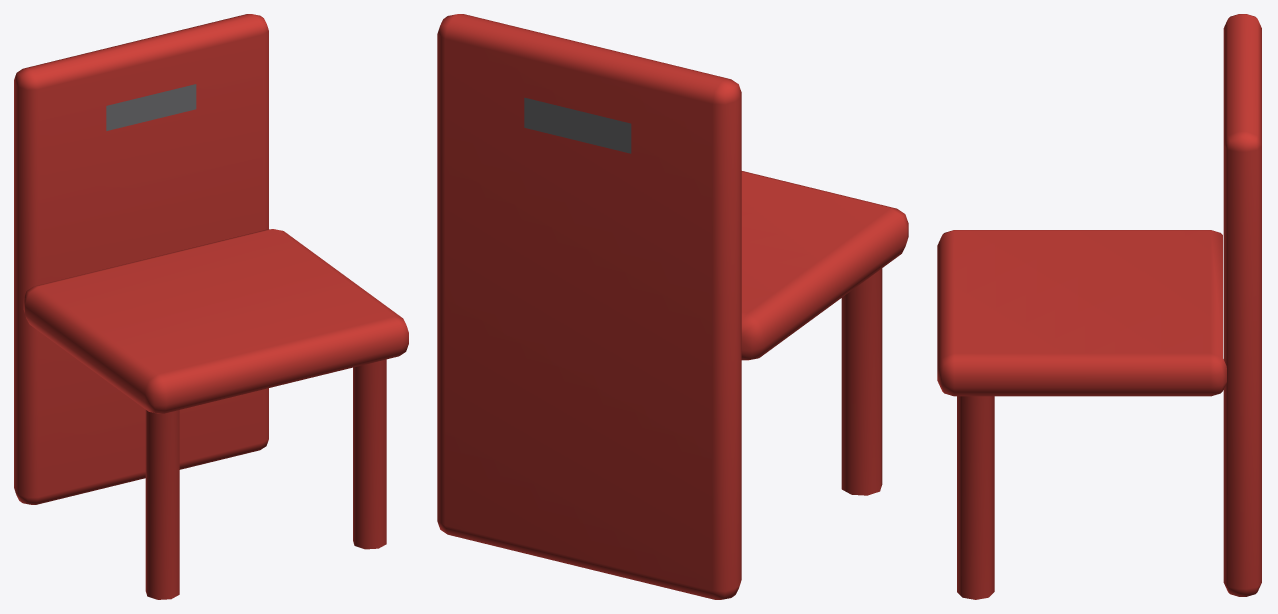
File: child_chair.glb
3 views of the same model, side by side, from view 1: azimuth 30°, elevation 25°; view 2: azimuth 150°, elevation 25°; view 3: azimuth 270°, elevation 25° (orthographic). The views are drawn at different scales.
Parts seen in each view (by area): view 1: playplace_child_chair; view 2: playplace_child_chair; view 3: playplace_child_chair.
Part boxes in pixels (x1,y1,x2,y2): playplace_child_chair: [14, 14, 408, 599]; playplace_child_chair: [437, 14, 908, 599]; playplace_child_chair: [937, 14, 1261, 599].
Size of the model in its own units: 0.38 by 0.6 by 0.382.
